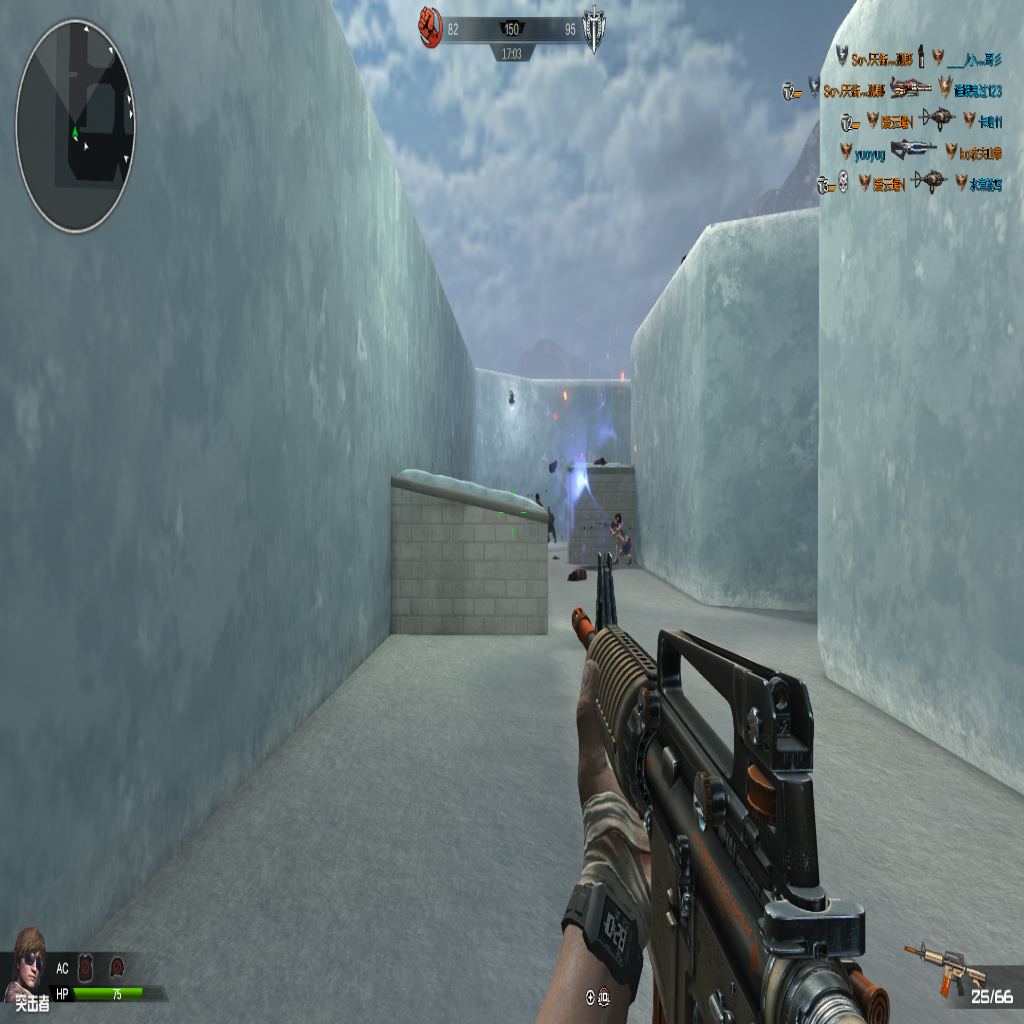tt: (612, 513, 626, 560)
